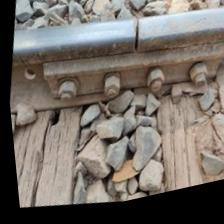person: (109, 11, 164, 69)
